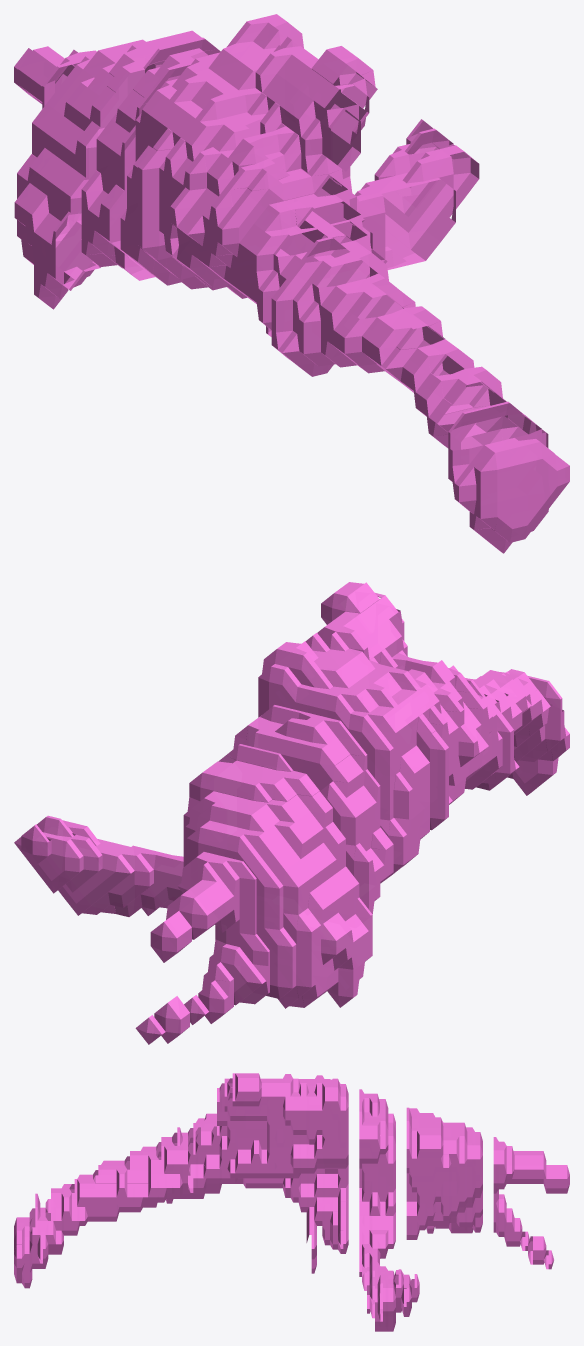
Rendered from SVV_BWM-VR04.gltf.
The picture shows the model from 3 angles, top to bottom: view 1: azimuth 30°, elevation 25°; view 2: azimuth 150°, elevation 25°; view 3: azimuth 270°, elevation 25°; orthographic projection. The views are drawn at different scales.
Visible parts, largest first — view 1: BWM-VR04; view 2: BWM-VR04; view 3: BWM-VR04.
Boxes of the visible parts, bbox=[...] form: BWM-VR04: bbox=[14, 14, 569, 553]; BWM-VR04: bbox=[14, 582, 569, 1044]; BWM-VR04: bbox=[14, 1073, 569, 1331].
Bounding box in the file's own units: 13821 × 11775 × 27022.
